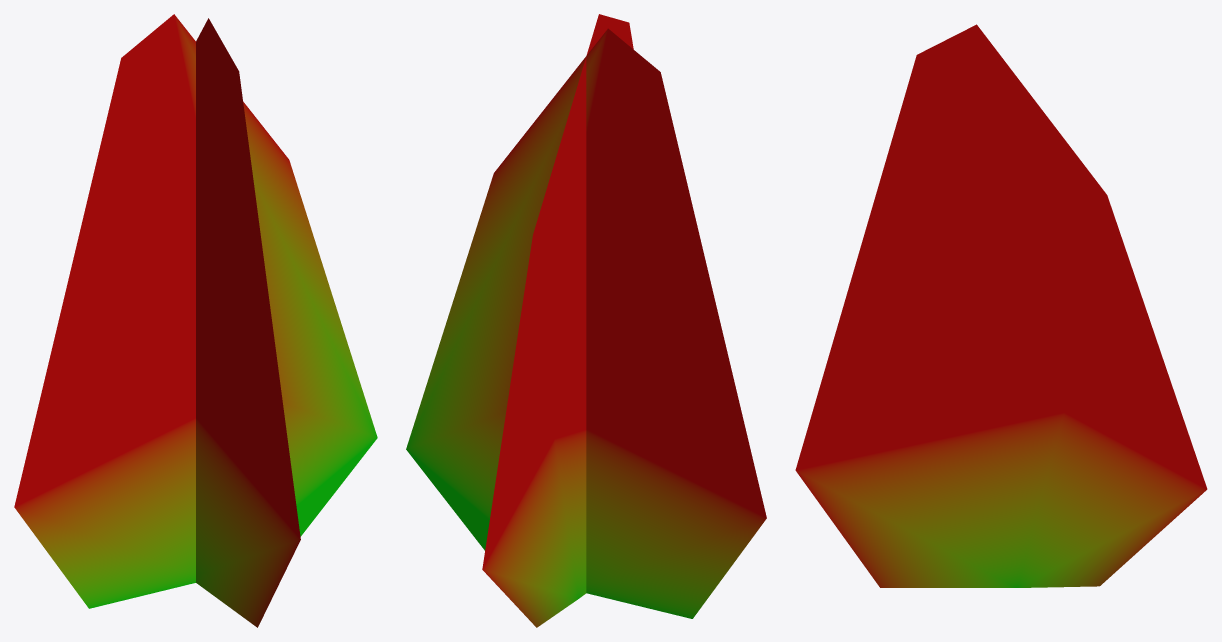
Rendered from Kikuyu Grass_LOD6_Var11_wiljearqx.fbx.
3 views of the same model, side by side, from view 1: azimuth 30°, elevation 25°; view 2: azimuth 150°, elevation 25°; view 3: azimuth 270°, elevation 25° (orthographic).
Visible parts, largest first — view 1: _ti2c_Var11_LOD6; view 2: _ti2c_Var11_LOD6; view 3: _ti2c_Var11_LOD6.
Boxes of the visible parts, left/top/right/bottom form: _ti2c_Var11_LOD6: left=14, top=14, right=377, bottom=627; _ti2c_Var11_LOD6: left=406, top=14, right=766, bottom=627; _ti2c_Var11_LOD6: left=795, top=24, right=1207, bottom=587.
Size of the model in its own units: 37.44 by 56.52 by 37.44.
